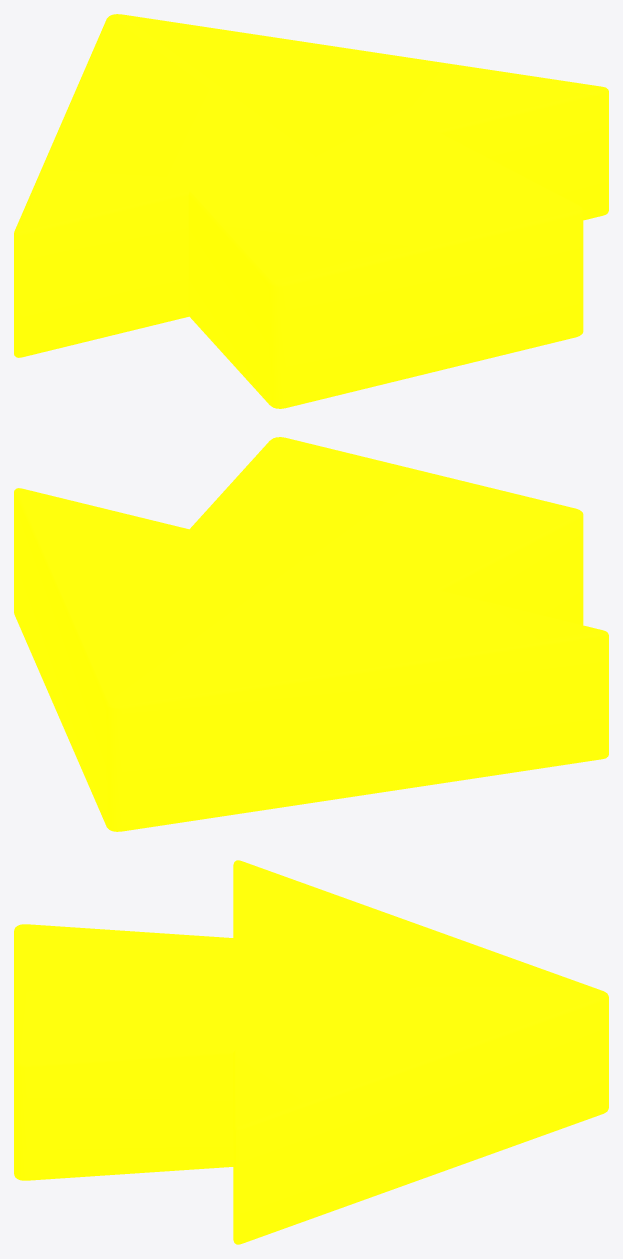
Rendered from Arrow.fbx.
3 renders of one model, top to bottom at view 1: azimuth 30°, elevation 25°; view 2: azimuth 150°, elevation 25°; view 3: azimuth 270°, elevation 25°, orthographic. The views are drawn at different scales.
Visible parts, largest first — view 1: arrow 2; view 2: arrow 2; view 3: arrow 2.
Boxes of the visible parts, x1,y1,x2,y2 form: arrow 2: (14, 14, 608, 408); arrow 2: (14, 437, 608, 831); arrow 2: (14, 860, 608, 1244).
Bounding box in the file's own units: 53.46 × 10.9 × 49.93.
